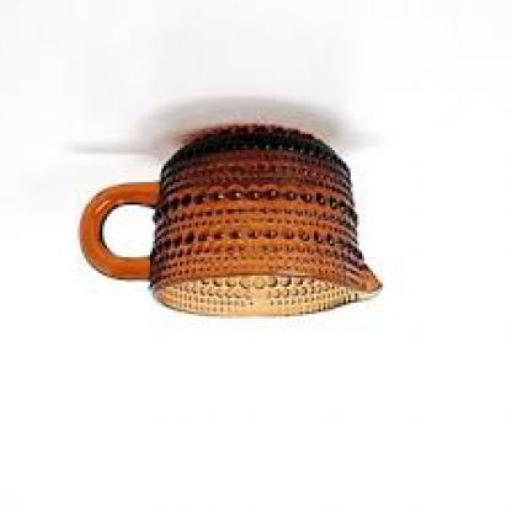glass: (82, 126, 387, 318)
